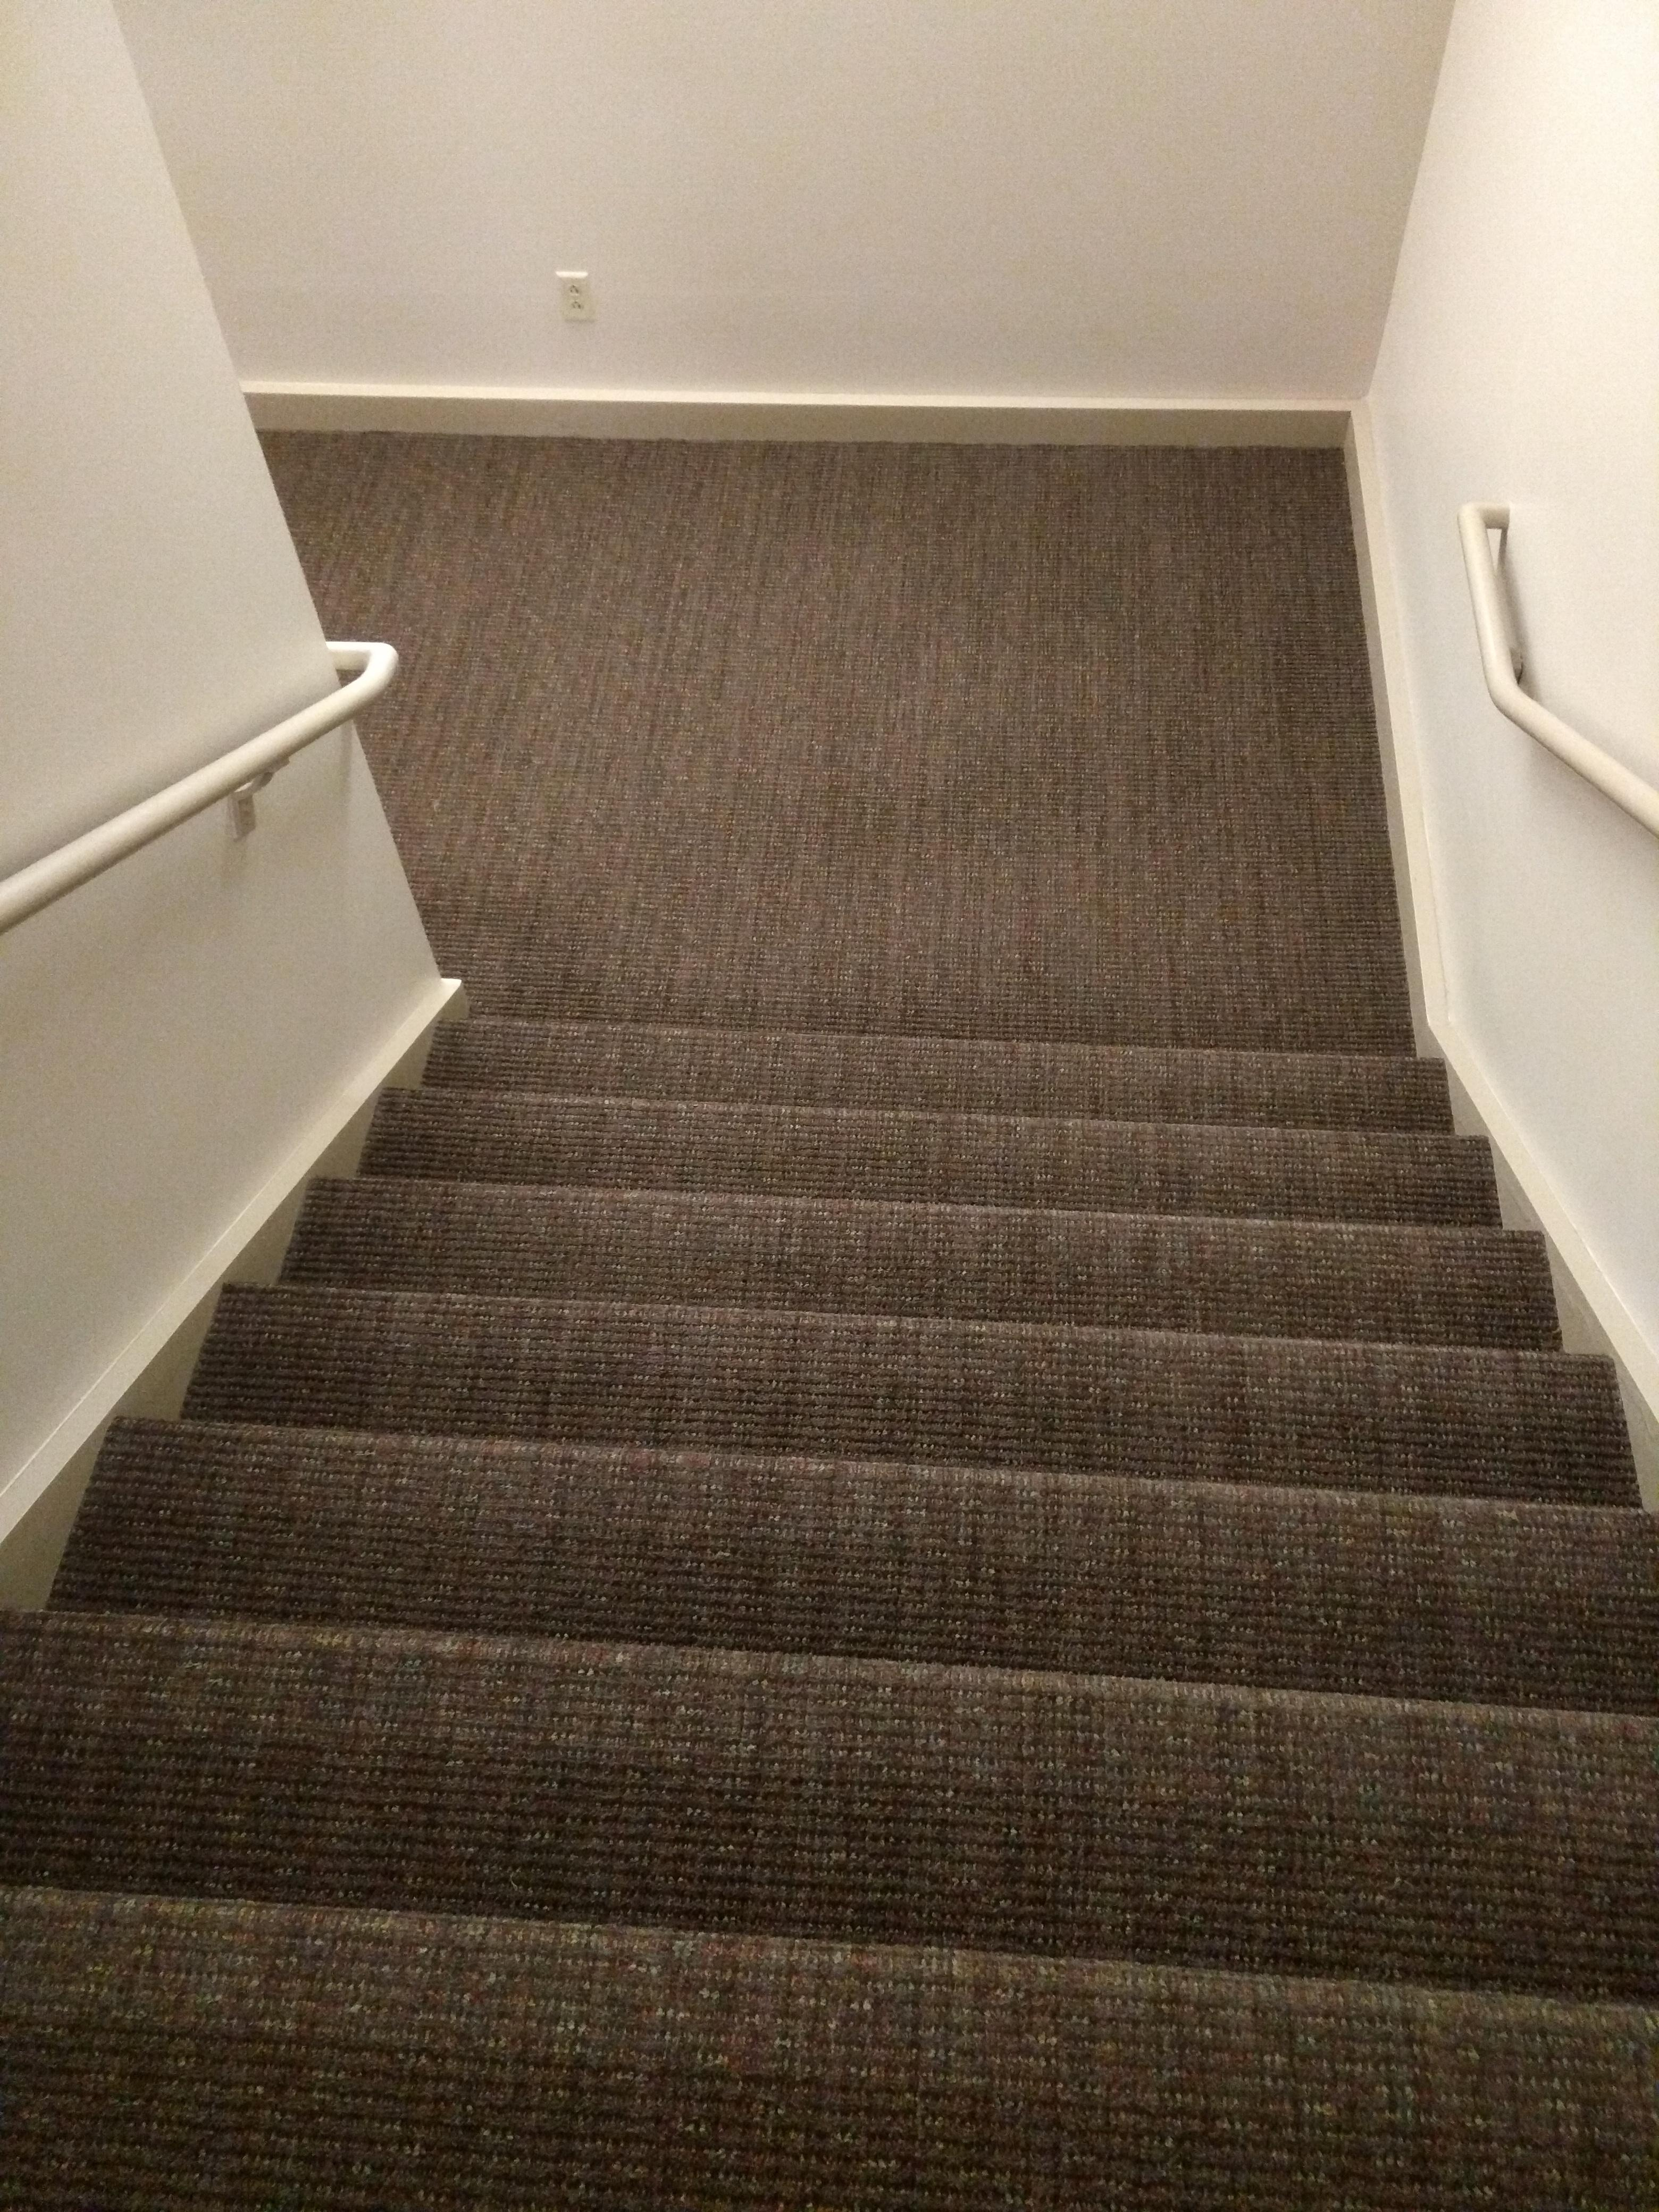stairs_down: (19, 982, 1659, 2177)
